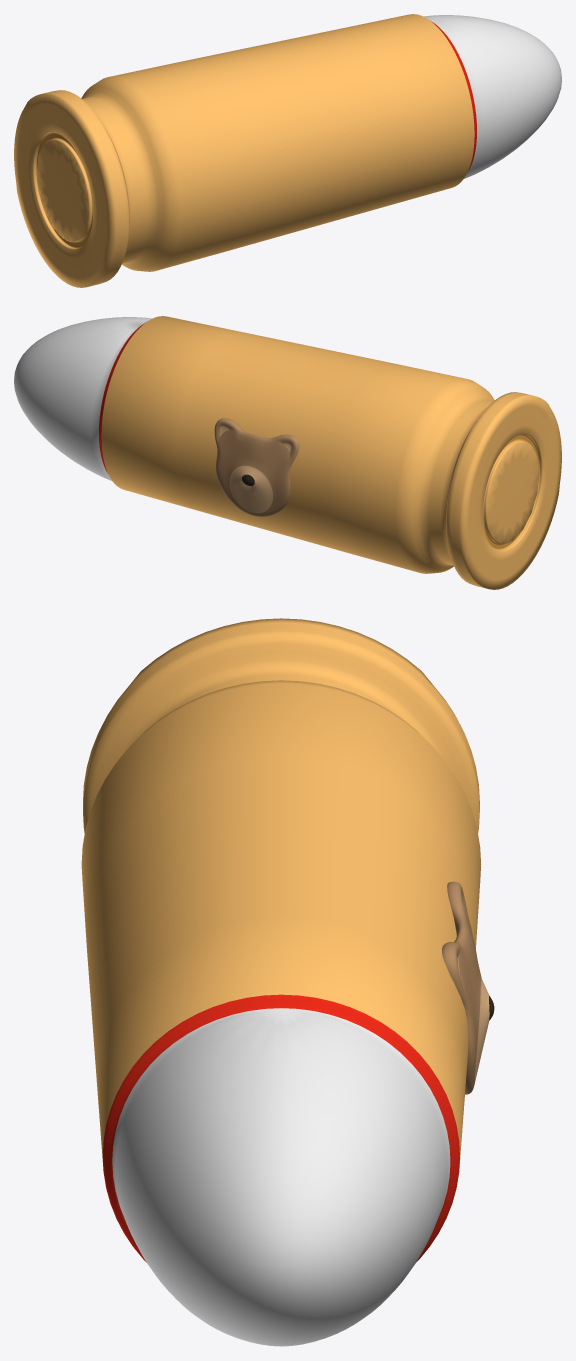
The model's file is bearbullet.fbx.
3 renders of one model, top to bottom at view 1: azimuth 30°, elevation 25°; view 2: azimuth 150°, elevation 25°; view 3: azimuth 270°, elevation 25°, orthographic. The views are drawn at different scales.
Visible parts, largest first — view 1: Sphere; view 2: Sphere, Circle; view 3: Sphere, Circle.
Boxes of the visible parts, x1=… form: Sphere: x1=14, y1=14, x2=561, y2=287; Sphere: x1=14, y1=316, x2=561, y2=589; Circle: x1=214, y1=418, x2=299, y2=516; Sphere: x1=81, y1=618, x2=480, y2=1346; Circle: x1=442, y1=881, x2=494, y2=1094.
Size of the model in its own units: 6.23 by 2.18 by 2.25.
